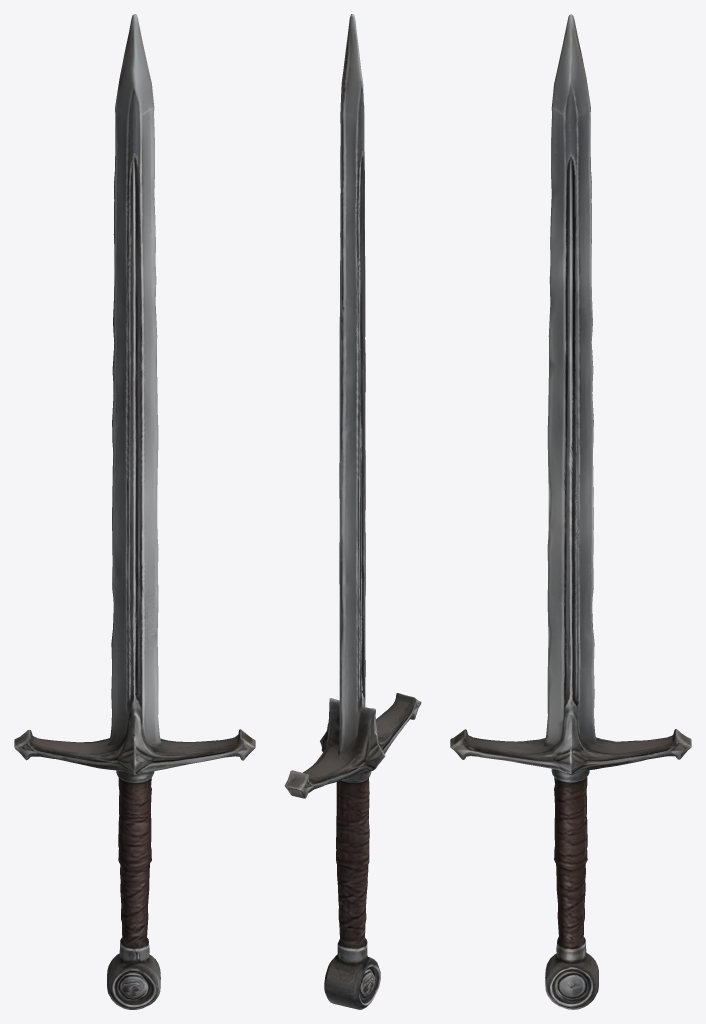
The model's file is wheel_greatsword.glb.
The picture shows the model from 3 angles, left to right: view 1: azimuth 90°, elevation 25°; view 2: azimuth 150°, elevation 25°; view 3: azimuth 270°, elevation 25°; orthographic projection.
Parts seen in each view (by area): view 1: wheel_greatsword; view 2: wheel_greatsword; view 3: wheel_greatsword.
Boxes of the visible parts, bbox=[...] form: wheel_greatsword: bbox=[14, 14, 255, 1009]; wheel_greatsword: bbox=[284, 14, 421, 1009]; wheel_greatsword: bbox=[450, 14, 691, 1009].
Size of the model in its own units: 0.0873 by 1.26 by 0.2785.
Materials: 1 (1 with a texture image).
